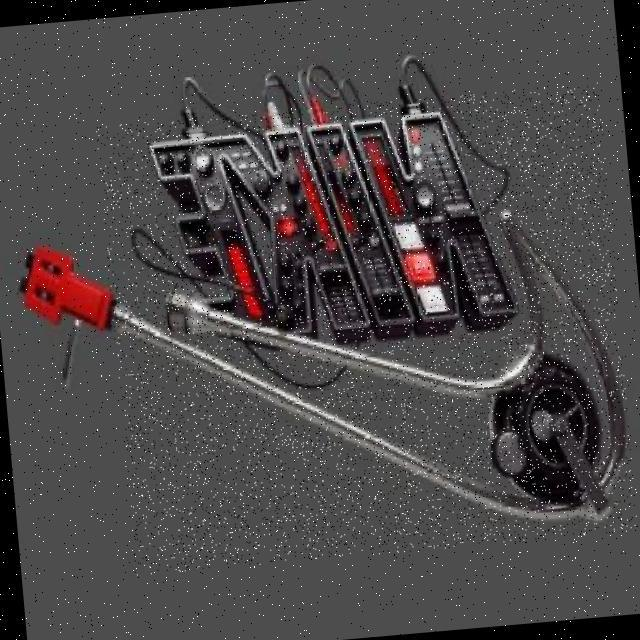Nike: (96, 82, 638, 575)
